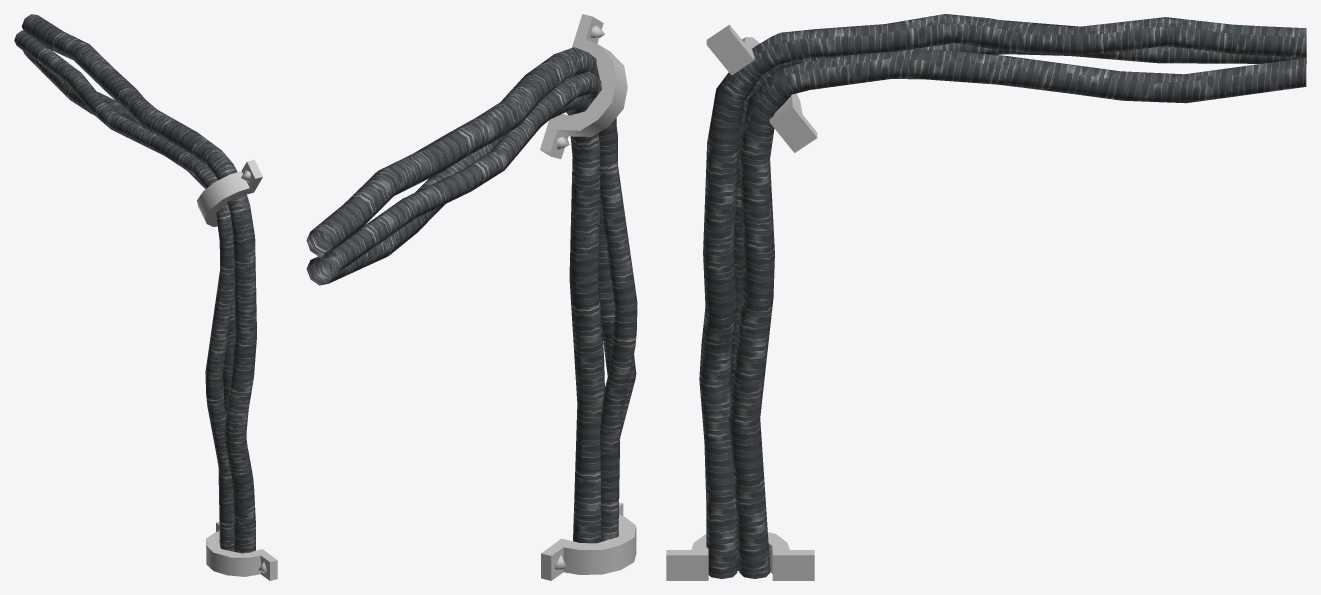
The model's file is SM_wall_wire_04.fbx.
3 views of the same model, side by side, from view 1: azimuth 30°, elevation 25°; view 2: azimuth 150°, elevation 25°; view 3: azimuth 270°, elevation 25° (orthographic). The views are drawn at different scales.
Parts seen in each view (by area): view 1: SM_wall_wire_04_LOD0; view 2: SM_wall_wire_04_LOD0; view 3: SM_wall_wire_04_LOD0.
Boxes of the visible parts, left/top/right/bottom form: SM_wall_wire_04_LOD0: left=14, top=14, right=277, bottom=580; SM_wall_wire_04_LOD0: left=306, top=14, right=637, bottom=580; SM_wall_wire_04_LOD0: left=666, top=14, right=1306, bottom=580.
Bounding box in the file's own units: 12.6 × 114 × 109.
